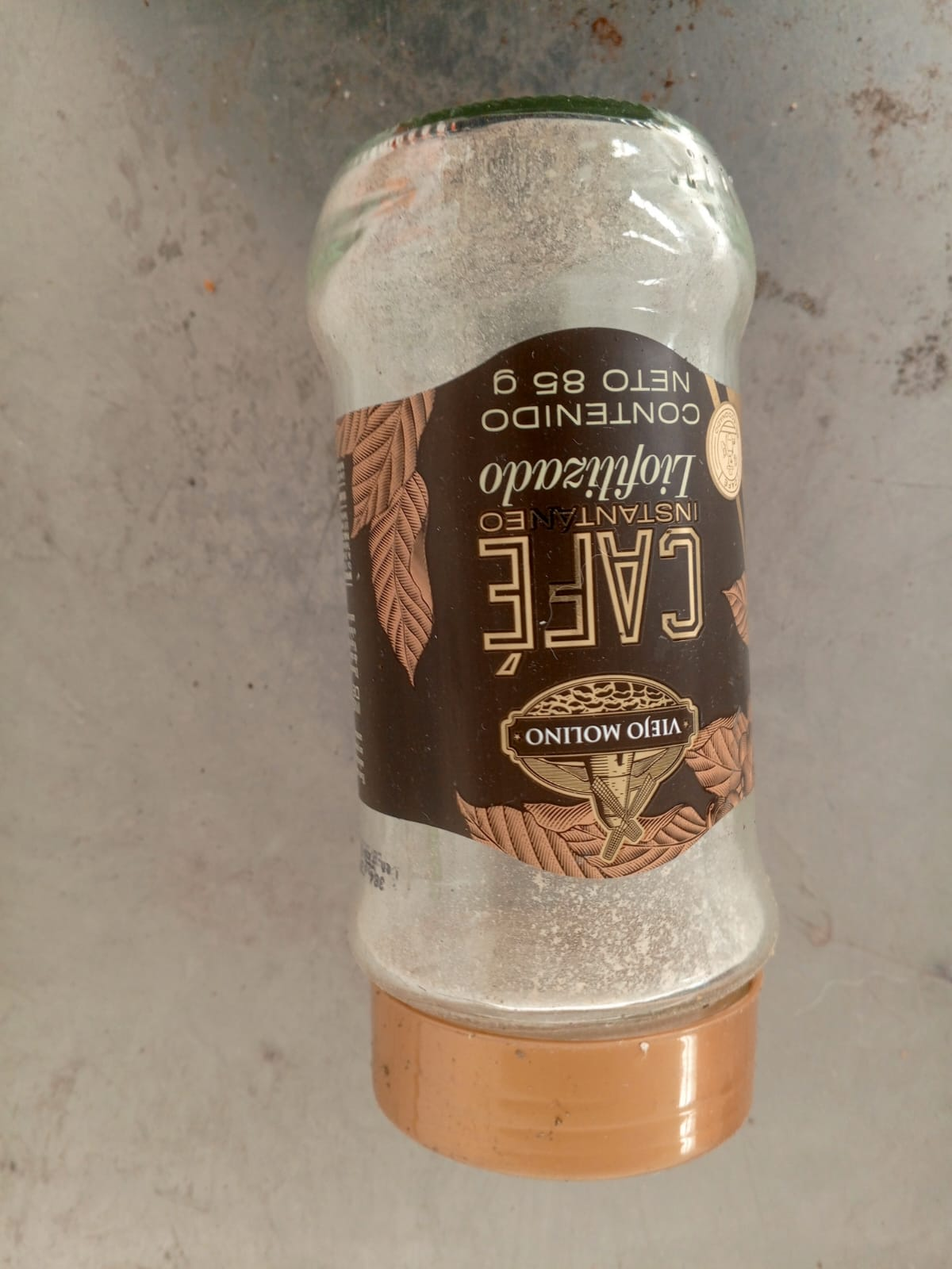Plastico: (363, 1032, 763, 1177)
Vidrio: (306, 99, 782, 1025)
